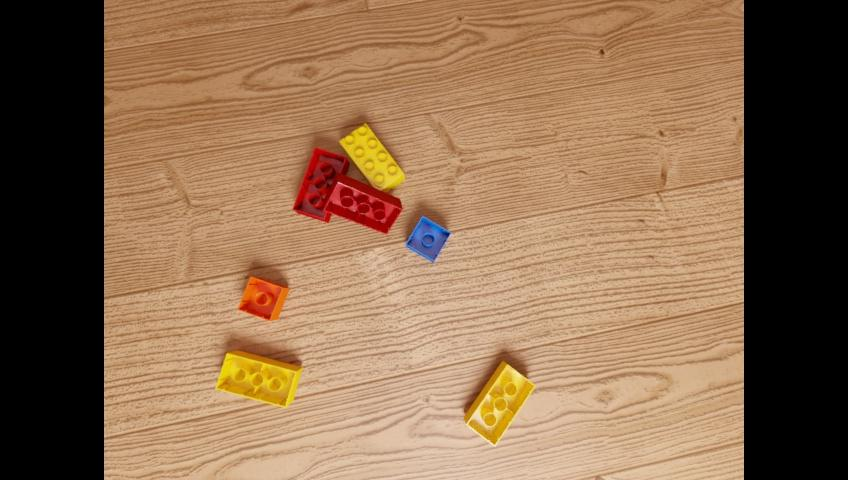2x2_blue: (405, 215, 450, 262)
2x2_orange: (237, 276, 289, 320)
4x2_red: (323, 171, 401, 234), (292, 146, 348, 222)
4x2_yellow: (463, 360, 534, 446), (215, 349, 301, 407), (339, 123, 403, 193)
